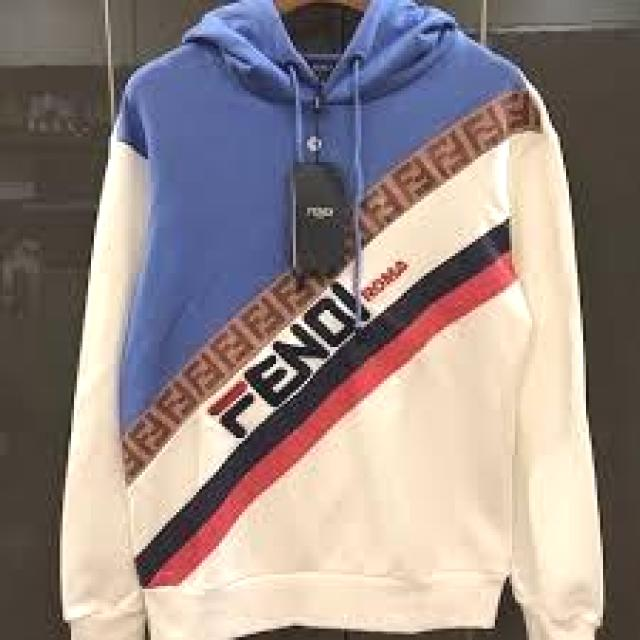sweater: (59, 3, 598, 640)
